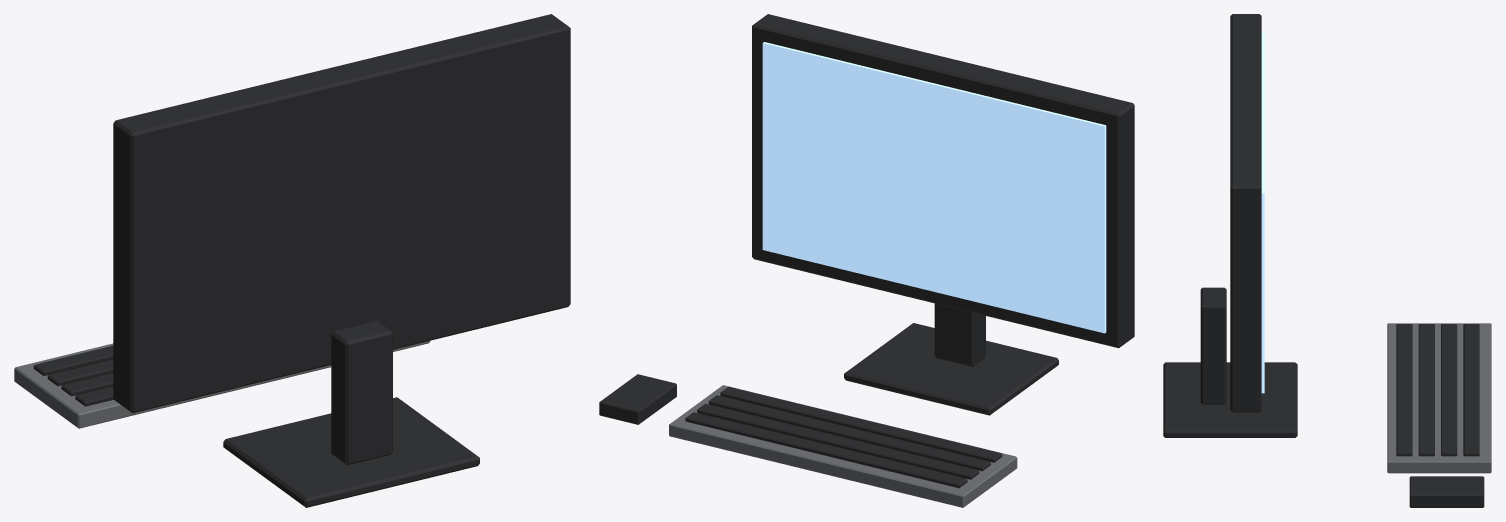
Rendered from prop_of_desk_pc.glb.
The picture shows the model from 3 angles, left to right: view 1: azimuth 30°, elevation 25°; view 2: azimuth 150°, elevation 25°; view 3: azimuth 270°, elevation 25°; orthographic projection. The views are drawn at different scales.
Visible parts, largest first — view 1: Panel; view 2: Screen, Panel; view 3: Panel, Screen.
Boxes of the visible parts, x1,y1,x2,y2 form: Panel: (14,14,570,507); Screen: (762,42,1106,333); Panel: (599,14,1134,507); Panel: (1163,14,1491,507); Screen: (1261,33,1264,393).
Bounding box in the file's own units: 0.605 × 0.45 × 0.44.
